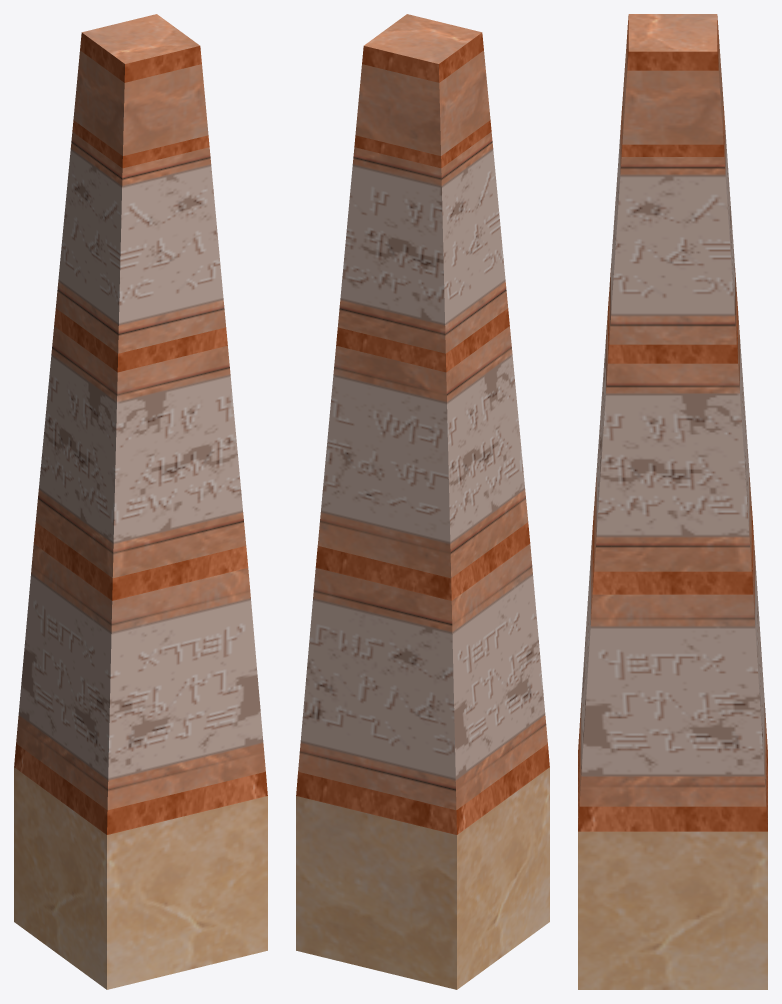
The model's file is Colony_Monolith_02_Art.glb.
3 views of the same model, side by side, from view 1: azimuth 30°, elevation 25°; view 2: azimuth 150°, elevation 25°; view 3: azimuth 270°, elevation 25° (orthographic). The views are drawn at different scales.
Parts seen in each view (by area): view 1: Colony_Monolith_02_Art; view 2: Colony_Monolith_02_Art; view 3: Colony_Monolith_02_Art.
Part boxes in pixels (x1,y1,x2,y2): Colony_Monolith_02_Art: (14, 14, 267, 989); Colony_Monolith_02_Art: (296, 14, 549, 989); Colony_Monolith_02_Art: (578, 14, 767, 989).
Bounding box in the file's own units: 1.4 × 7.46 × 1.4.
Materials: 1 (1 with a texture image).
